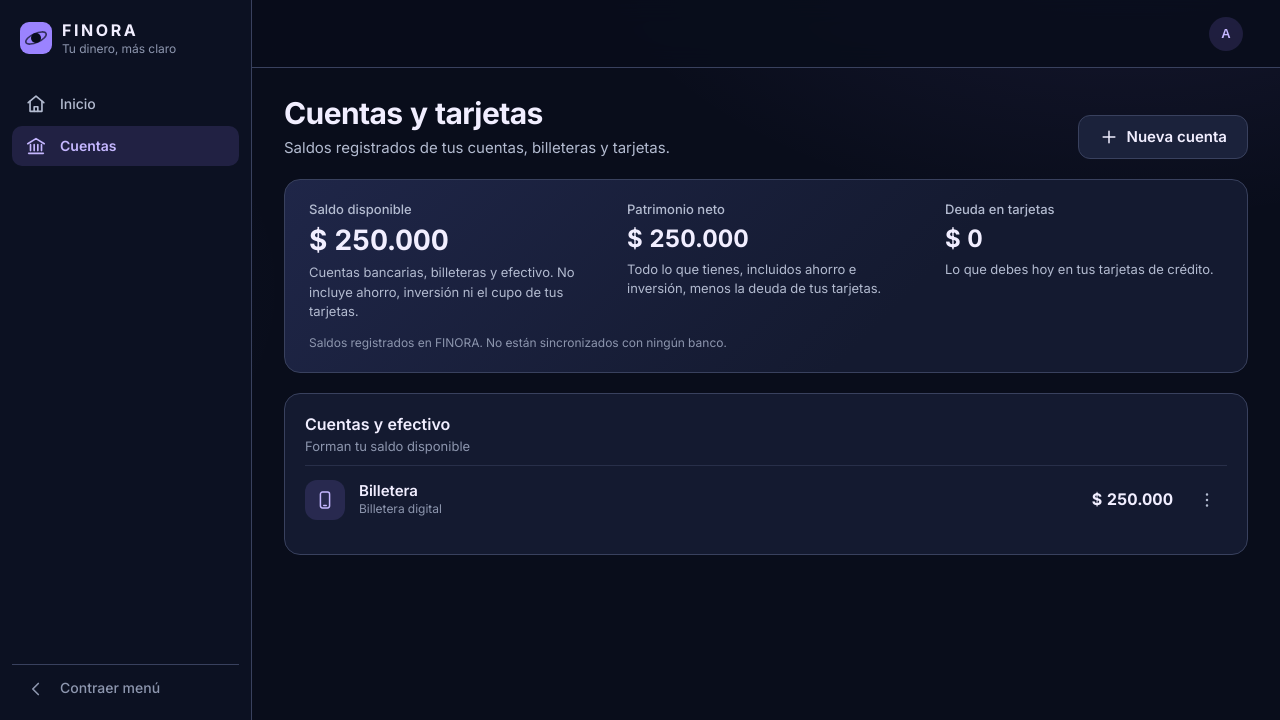
archivar (CA-ACC-04) › si falla, el error se muestra dentro del diálogo
This screenshot has width=1280, height=720.
Click the button named "Acciones de Billetera": click(1207, 500) [1187,480,1227,520]
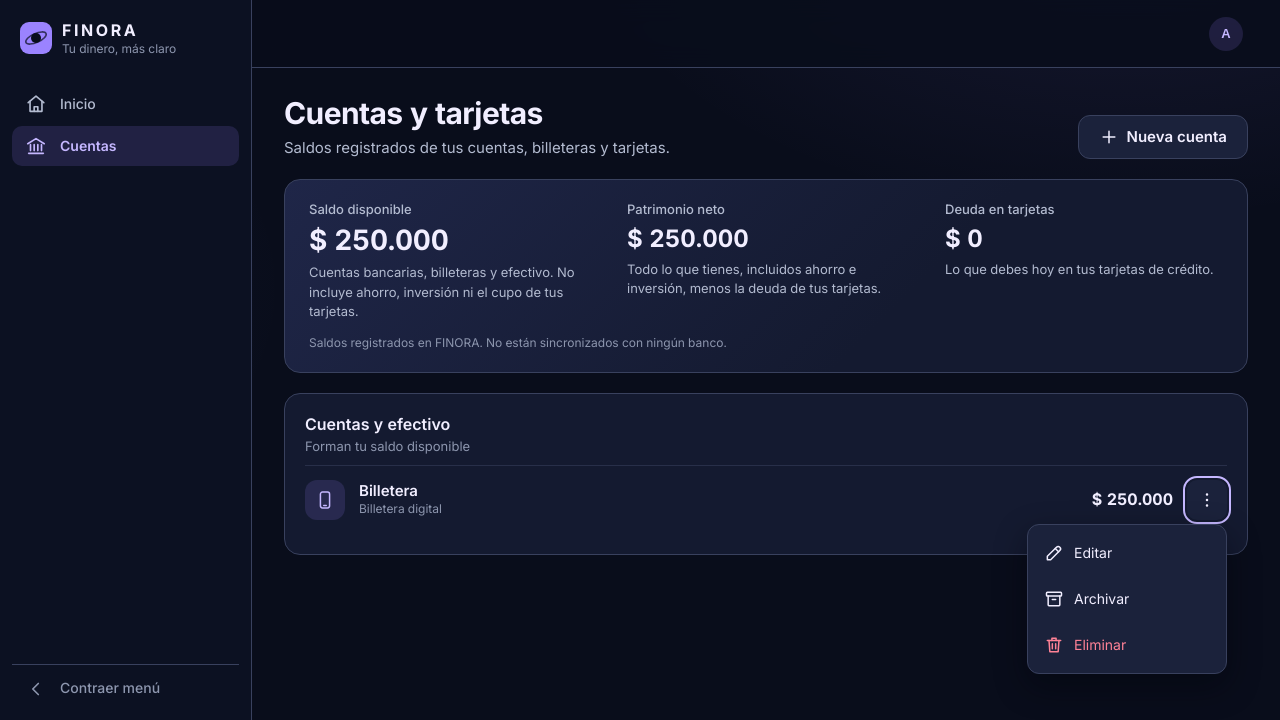
Click the button "Archivar": click(1127, 599) [1034,577,1220,621]
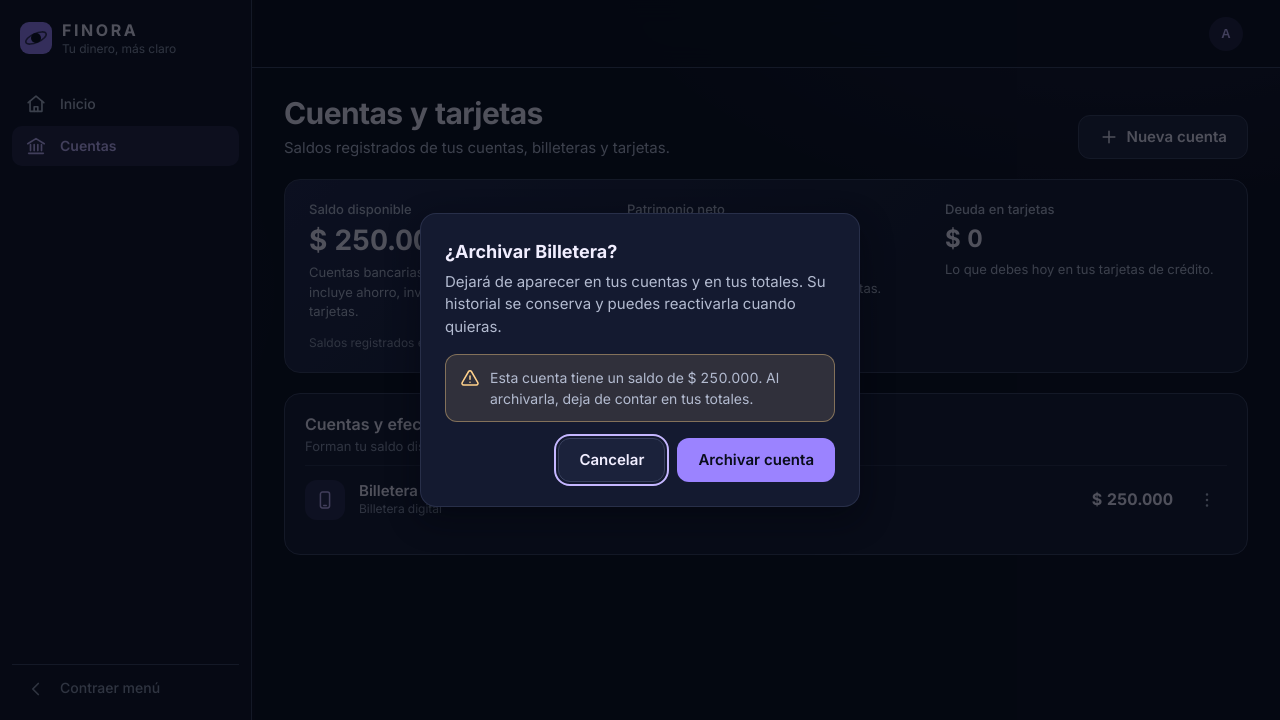
Click the button "Archivar cuenta": click(756, 460) [677,438,835,482]
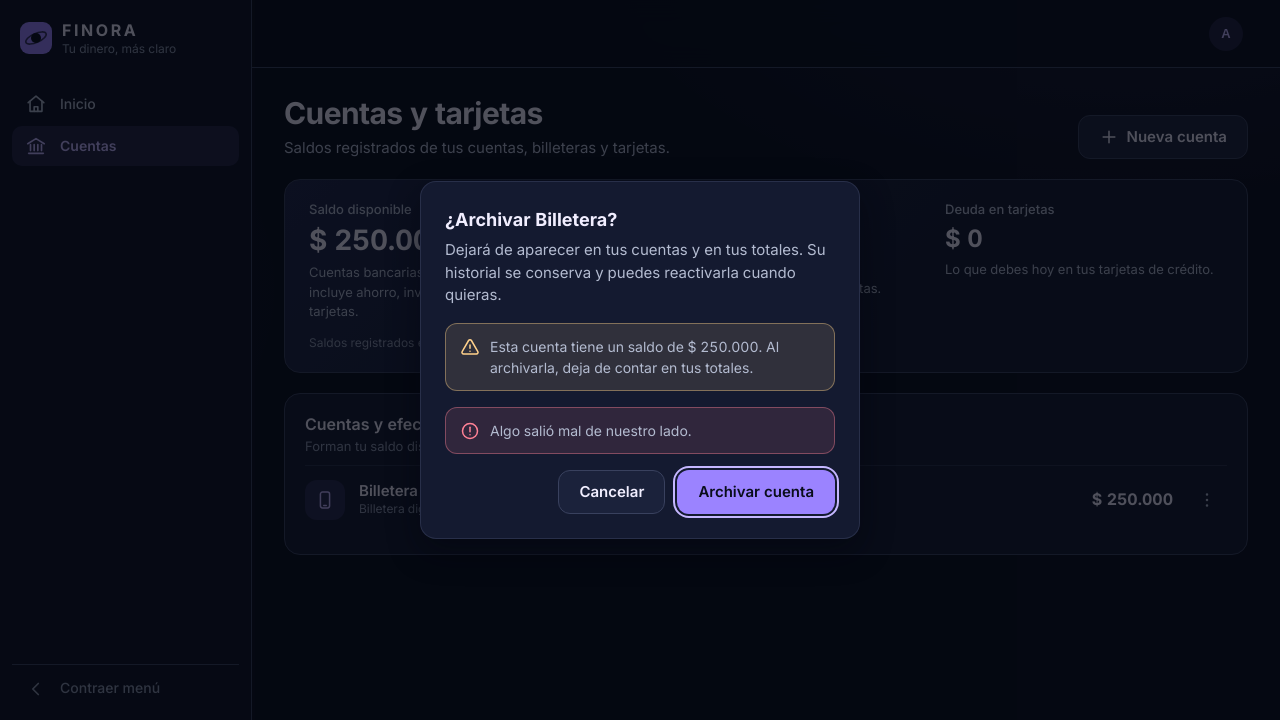
Expected: the message "Algo salió mal de nuestro lado." is shown, [445,407,835,454]
